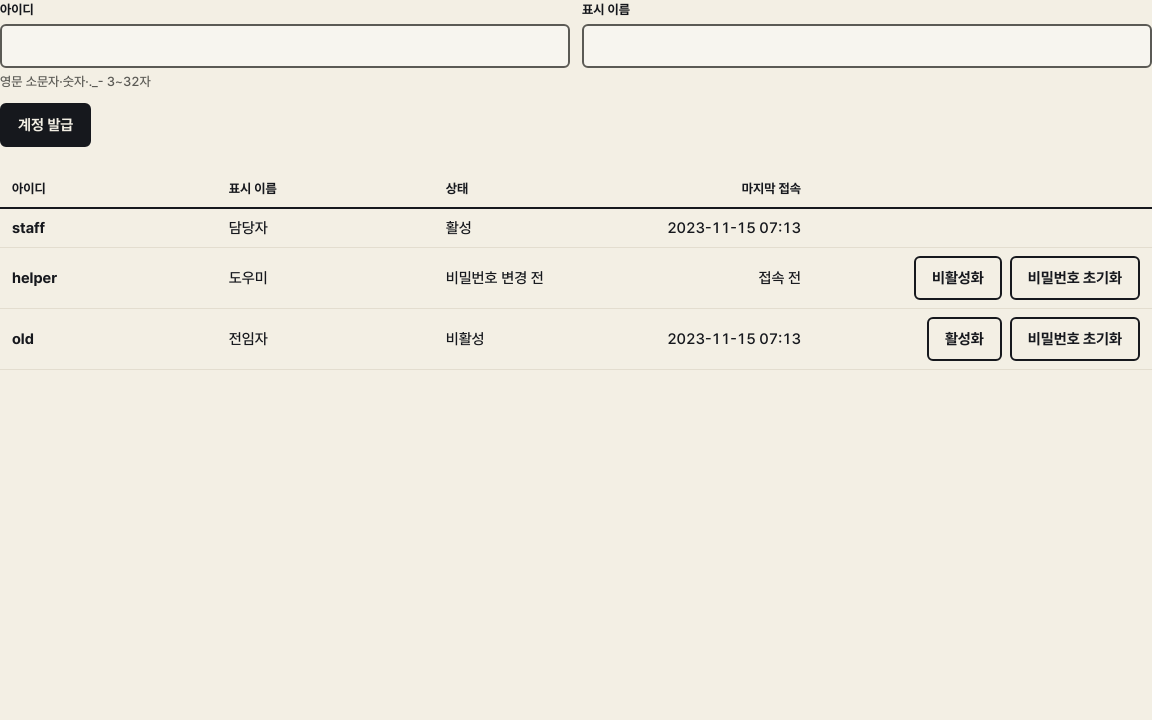
Test: 계정 발급 › 발급하면 임시 비밀번호를 읽기 전용 입력란에 보여 준다
expect the text "helper" is shown: met, box [12,269,57,287]
Type "newbie" into the field labelled "아이디".
click(285, 46); type("newbie")  # box [0,24,570,68]
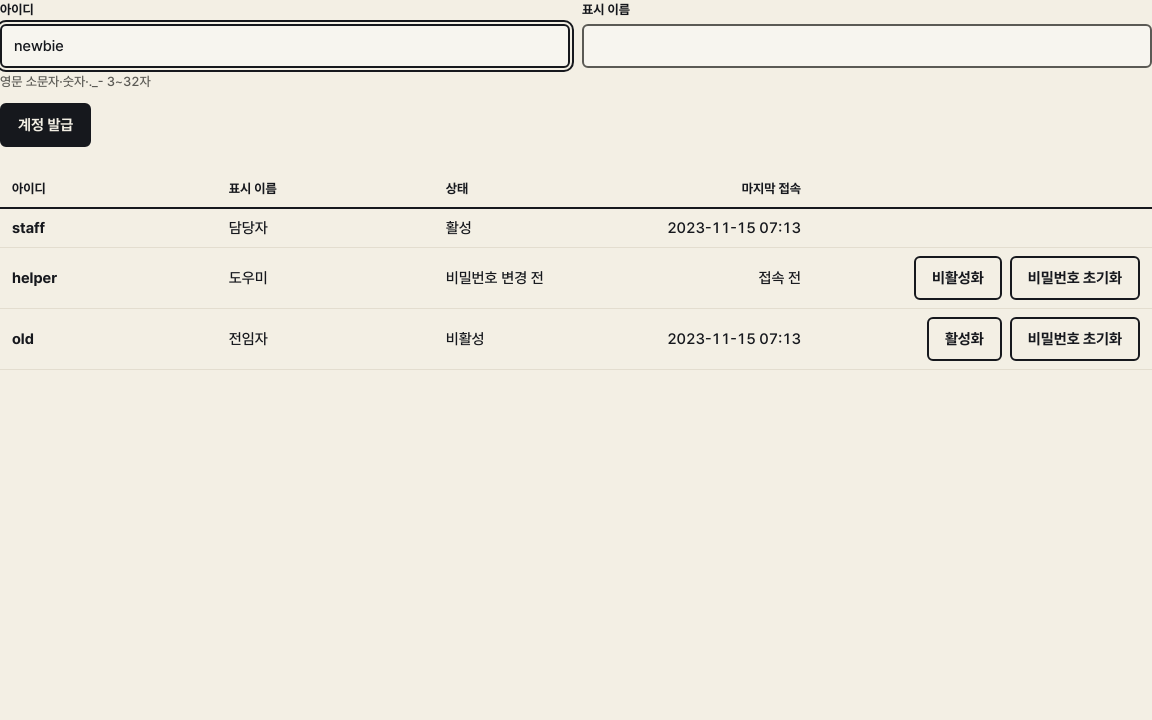
Type "새 담당" into the field labelled "표시 이름".
click(867, 46); type("새 담당")  # box [582,24,1151,68]
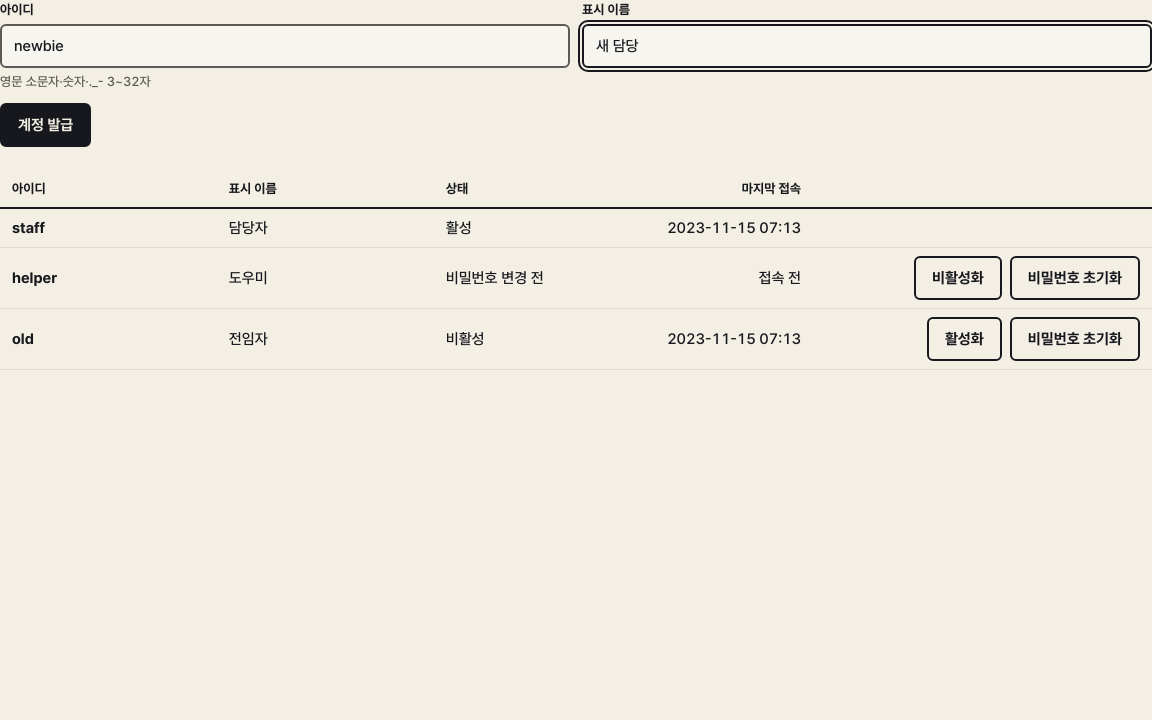
Click the button "계정 발급".
click(46, 125)  # box [0,103,91,147]
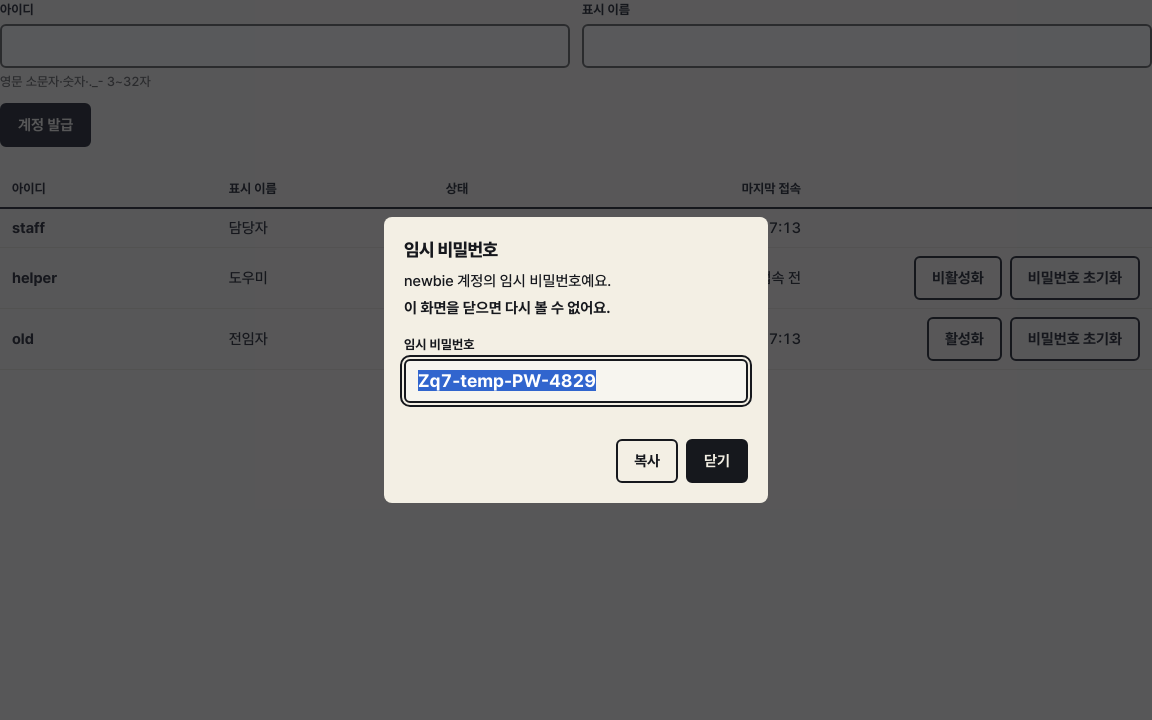
expect the field labelled "임시 비밀번호" holds "Zq7-temp-PW-4829": met, box [404,359,748,403]
expect the text "이 화면을 닫으면 다시 볼 수 없어요." is shown: met, box [404,299,610,317]
